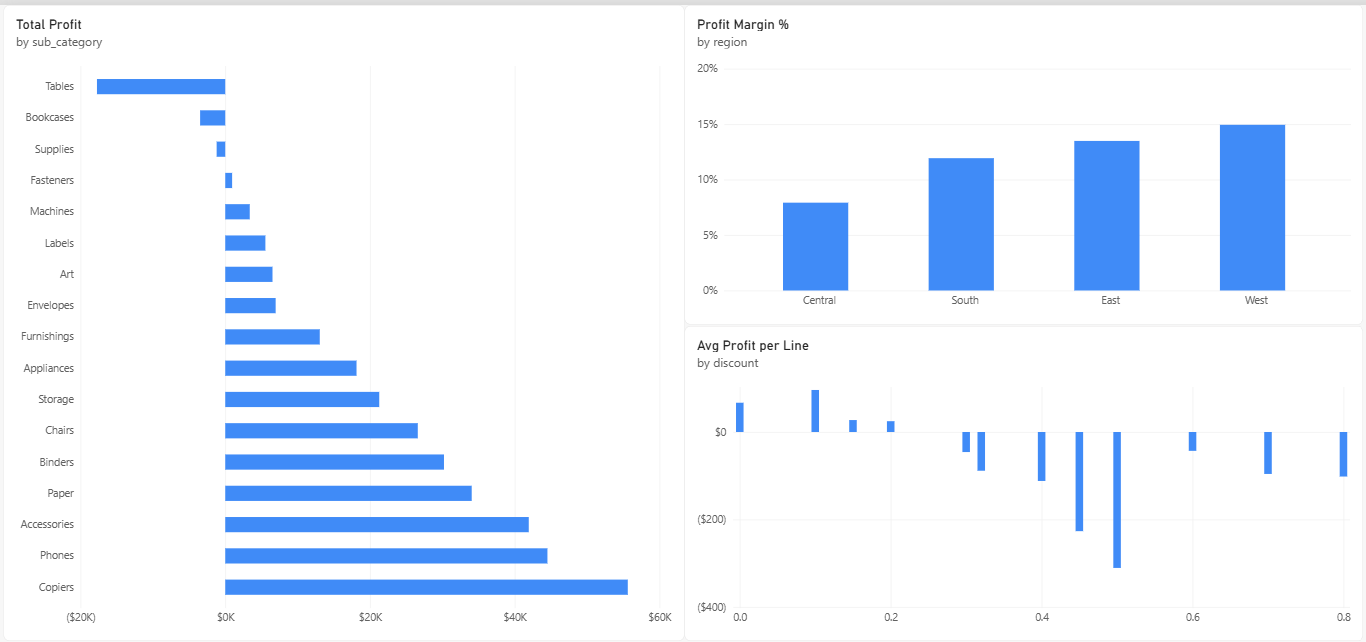

What the dashboard file says about the page in this screenshot:
{"tool":"powerbi","page":{"name":"Profitability","canvas":[1920,1080],"ordinal":1},"visuals":[{"type":"barChart","fields":{"Category":["dim_product.sub_category"],"Y":["fact_sales.Total Profit"]},"box":[10,0,908,848],"z":0},{"type":"clusteredColumnChart","fields":{"Category":["fact_sales.discount"],"Y":["fact_sales.Avg Profit per Line"]},"box":[918,428,906,420],"z":1000},{"type":"clusteredColumnChart","fields":{"Category":["dim_location.region"],"Y":["fact_sales.Profit Margin %"]},"box":[918,0,906,426],"z":2000}]}

Visuals, with their boxes on the page's 1920x1080 design canvas (x1, y1, x2, y2). These are canvas units, not pixel positions in the 1366x642 screenshot, which may show the page scaled, cropped or inside an application window:
barChart - dim_product.sub_category x fact_sales.Total Profit: <region>10, 0, 918, 848</region>
clusteredColumnChart - fact_sales.discount x fact_sales.Avg Profit per Line: <region>918, 428, 1824, 848</region>
clusteredColumnChart - dim_location.region x fact_sales.Profit Margin %: <region>918, 0, 1824, 426</region>
